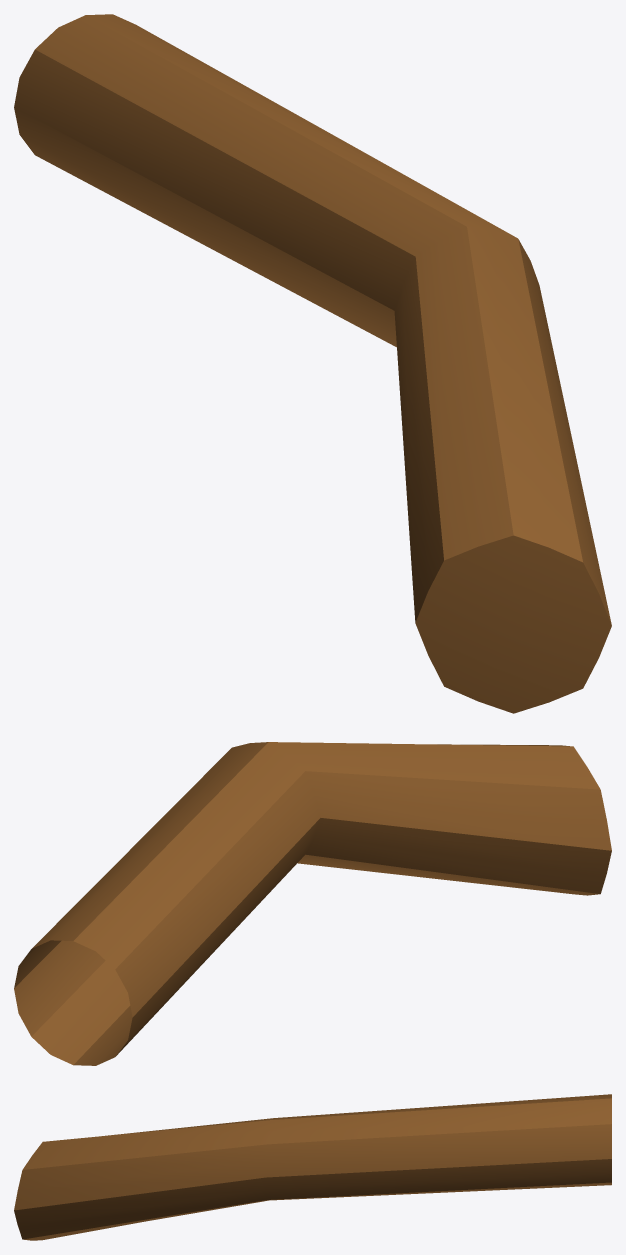
The picture shows the model from 3 angles, top to bottom: view 1: azimuth 30°, elevation 25°; view 2: azimuth 150°, elevation 25°; view 3: azimuth 270°, elevation 25°; orthographic projection. The views are drawn at different scales.
Bounding box in the file's own units: 0.0231 × 0.022 × 0.0721.
